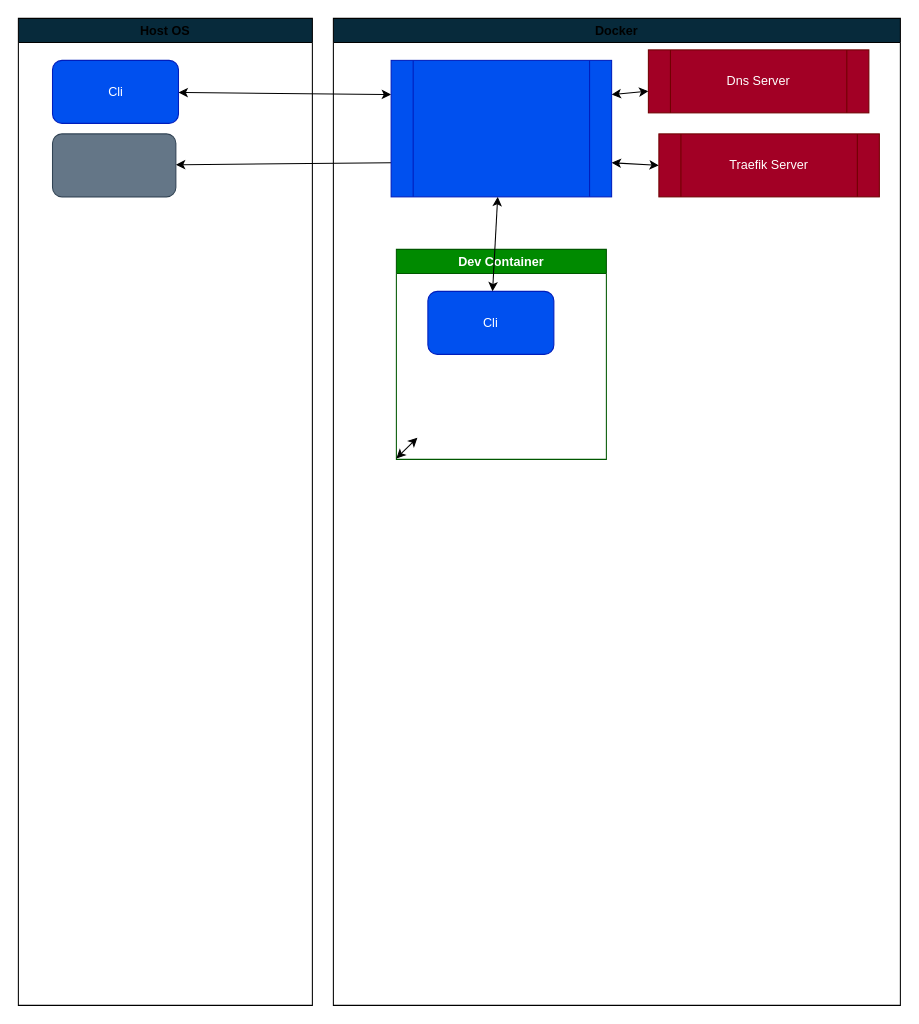
Some shapes in this 919 by 1024 pixel diagram are drawn without their labels. The centre of each missing label's shape, as x and y in pixels:
"Api Webservice" goes at point 501,128.
"Docker Cli" goes at point 113,165.
